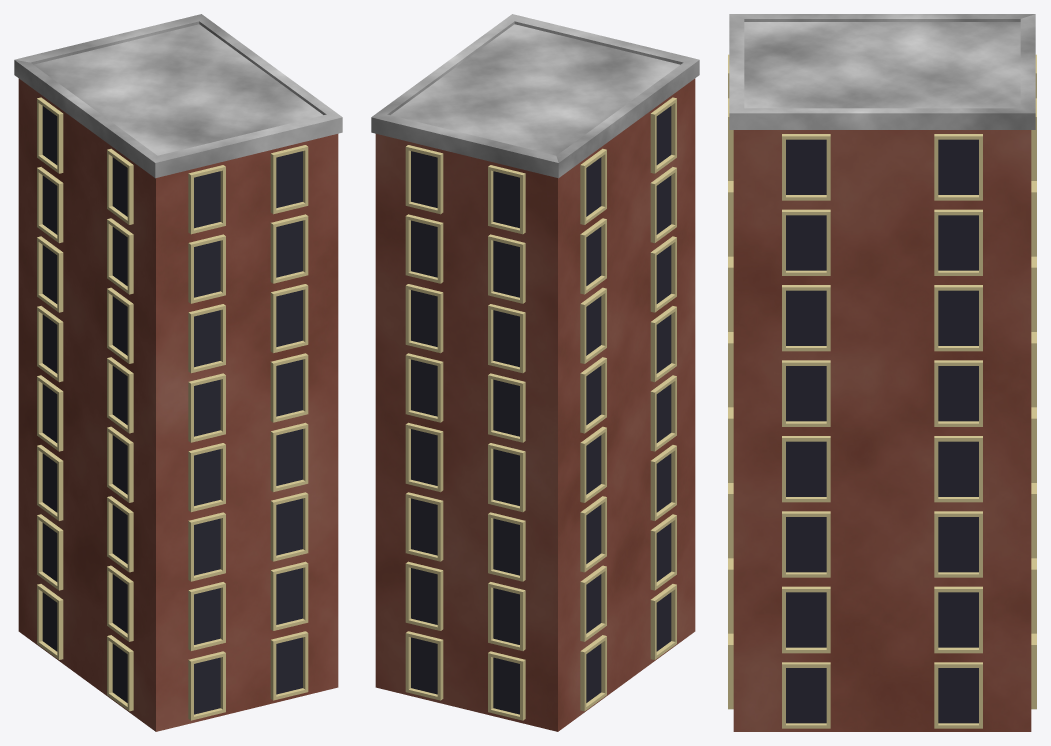
File: 43secondblock.FBX
The picture shows the model from 3 angles, left to right: view 1: azimuth 30°, elevation 25°; view 2: azimuth 150°, elevation 25°; view 3: azimuth 270°, elevation 25°; orthographic projection. The views are drawn at different scales.
Visible parts, largest first — view 1: Box001; view 2: Box001; view 3: Box001.
Part boxes in pixels (x1,y1,x2,y2): Box001: (14, 14, 342, 731); Box001: (371, 14, 699, 731); Box001: (728, 14, 1036, 731).
Size of the model in its own units: 949 by 2712 by 1224.
Materials: 1 (1 with a texture image).
